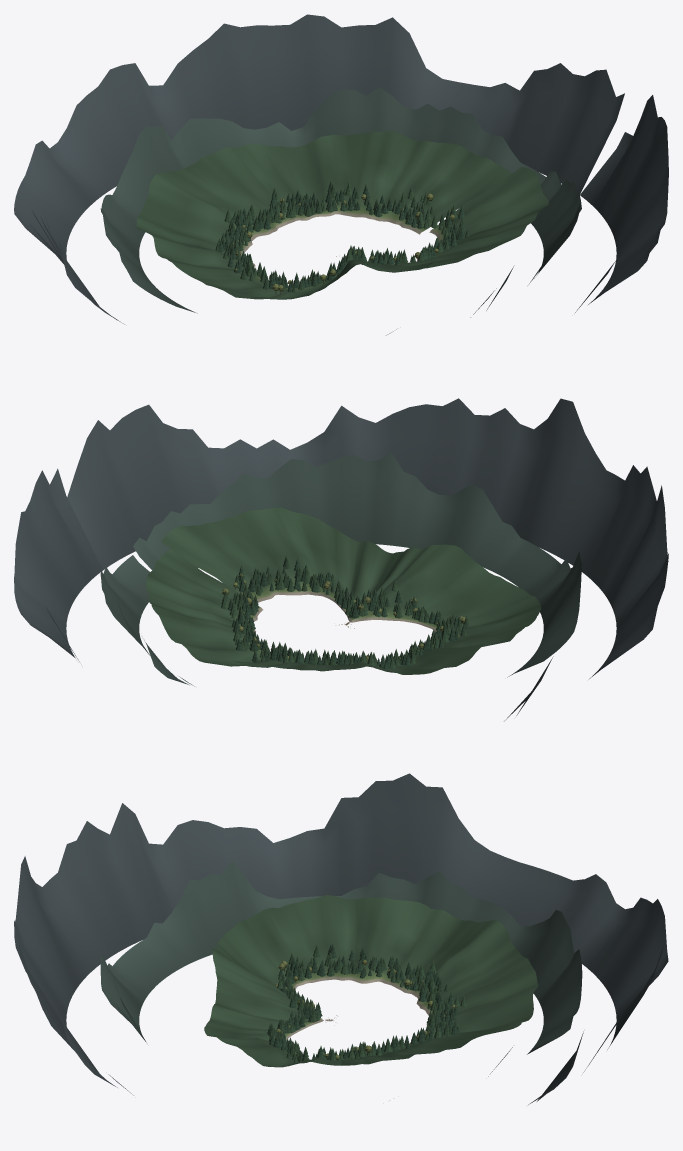
Rendered from env.glb.
The picture shows the model from 3 angles, top to bottom: view 1: azimuth 30°, elevation 25°; view 2: azimuth 150°, elevation 25°; view 3: azimuth 270°, elevation 25°; orthographic projection.
Visible parts, largest first — view 1: Ridges, Terrain, Trees; view 2: Ridges, Terrain, Trees; view 3: Ridges, Terrain, Trees.
Part boxes in pixels (x1,y1,x2,y2): Ridges: (14,14,668,335); Terrain: (136,131,548,299); Trees: (215,181,469,294); Ridges: (14,398,668,721); Terrain: (146,507,540,674); Trees: (221,556,469,669); Ridges: (14,773,668,1104); Terrain: (204,895,538,1067); Trees: (267,944,466,1062).
Size of the model in its own units: 680 by 148 by 680.
